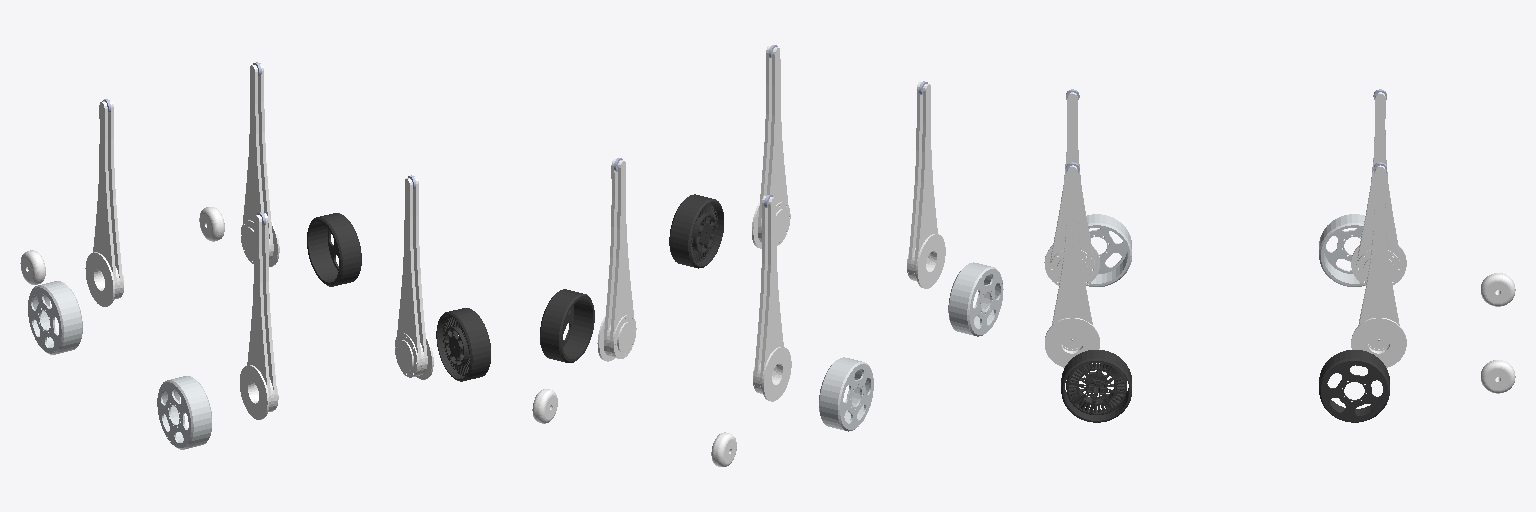
The robot description file, URDF, robot "stee_new":
<?xml version="1.0" encoding="utf-8"?>
<!-- This URDF was automatically created by SolidWorks to URDF Exporter! Originally created by Stephen Brawner (brawner@gmail.com) 
     Commit Version: 1.6.0-4-g7f85cfe  Build Version: 1.6.7995.38578
     For more information, please see http://wiki.ros.org/sw_urdf_exporter -->
<robot
  name="stee_new">
  <link
    name="base_link">
    <inertial>
      <origin
        xyz="-0.0049353145677922 -0.0173908043079384 0.042668507758924"
        rpy="0 0 0" />
      <mass
        value="15.11525644204073" />
      <inertia
        ixx="0.0662797601616749"
        ixy="8.82781584157839E-05"
        ixz="-3.8514440935953E-07"
        iyy="0.0467572894033259"
        iyz="-4.73012423153271E-06"
        izz="0.103690871513037" />
    </inertial>
    <visual>
      <origin
        xyz="0 0 0"
        rpy="0 0 0" />
      <geometry>
        <mesh
          filename="package://stee_new/meshes/base_link.STL" />
      </geometry>
      <material
        name="">
        <color
          rgba="0.752941176470588 0.752941176470588 0.752941176470588 1" />
      </material>
    </visual>
    <collision>
      <origin
        xyz="0 0 0"
        rpy="0 0 0" />
      <geometry>
        <mesh
          filename="package://stee_new/meshes/base_link.STL" />
      </geometry>
    </collision>
  </link>
  <link
    name="L_F_wheel_Link">
    <inertial>
      <origin
        xyz="-0.0031094 -1.9429E-16 -4.5103E-17"
        rpy="0 0 0" />
      <mass
        value="0.14684" />
      <inertia
        ixx="0.00029453"
        ixy="-9.7583E-20"
        ixz="1.0674E-19"
        iyy="0.00016408"
        iyz="2.1925E-20"
        izz="0.00016408" />
    </inertial>
    <visual>
      <origin
        xyz="0 0 0"
        rpy="0 0 0" />
      <geometry>
        <mesh
          filename="package://stee_new/meshes/L_F_wheel_Link.STL" />
      </geometry>
      <material
        name="">
        <color
          rgba="0.89804 0.91765 0.92941 1" />
      </material>
    </visual>
    <collision>
      <origin
        xyz="0 0 0"
        rpy="0 0 0" />
      <geometry>
        <mesh
          filename="package://stee_new/meshes/L_F_wheel_Link.STL" />
      </geometry>
    </collision>
  </link>
  <joint
    name="base2L_F_W_Link"
    type="continuous">
    <origin
      xyz="-0.23 0.185 0.0295"
      rpy="0 0 0" />
    <parent
      link="base_link" />
    <child
      link="L_F_wheel_Link" />
    <axis
      xyz="1 0 0" />
  </joint>
  <link
    name="L_B_wheel_Link">
    <inertial>
      <origin
        xyz="-0.0031094 -2.498E-16 -5.2042E-17"
        rpy="0 0 0" />
      <mass
        value="0.14684" />
      <inertia
        ixx="0.00029453"
        ixy="-6.4277E-20"
        ixz="1.3221E-19"
        iyy="0.00016408"
        iyz="6.0191E-21"
        izz="0.00016408" />
    </inertial>
    <visual>
      <origin
        xyz="0 0 0"
        rpy="0 0 0" />
      <geometry>
        <mesh
          filename="package://stee_new/meshes/L_B_wheel_Link.STL" />
      </geometry>
      <material
        name="">
        <color
          rgba="0.89804 0.91765 0.92941 1" />
      </material>
    </visual>
    <collision>
      <origin
        xyz="0 0 0"
        rpy="0 0 0" />
      <geometry>
        <mesh
          filename="package://stee_new/meshes/L_B_wheel_Link.STL" />
      </geometry>
    </collision>
  </link>
  <joint
    name="base2L_B_W_Link"
    type="continuous">
    <origin
      xyz="-0.23 -0.185 0.0295"
      rpy="0 0 0" />
    <parent
      link="base_link" />
    <child
      link="L_B_wheel_Link" />
    <axis
      xyz="1 0 0" />
  </joint>
  <link
    name="R_F_wheel_Link">
    <inertial>
      <origin
        xyz="0.0031094 1.6653E-16 -5.2042E-17"
        rpy="0 0 0" />
      <mass
        value="0.14684" />
      <inertia
        ixx="0.00029453"
        ixy="-6.0097E-20"
        ixz="-1.338E-19"
        iyy="0.00016408"
        iyz="-2.4027E-20"
        izz="0.00016408" />
    </inertial>
    <visual>
      <origin
        xyz="0 0 0"
        rpy="0 0 0" />
      <geometry>
        <mesh
          filename="package://stee_new/meshes/R_F_wheel_Link.STL" />
      </geometry>
      <material
        name="">
        <color
          rgba="0.29804 0.29804 0.29804 1" />
      </material>
    </visual>
    <collision>
      <origin
        xyz="0 0 0"
        rpy="0 0 0" />
      <geometry>
        <mesh
          filename="package://stee_new/meshes/R_F_wheel_Link.STL" />
      </geometry>
    </collision>
  </link>
  <joint
    name="base2R_F_W_Link"
    type="continuous">
    <origin
      xyz="0.23 0.185 0.0295"
      rpy="0 0 0" />
    <parent
      link="base_link" />
    <child
      link="R_F_wheel_Link" />
    <axis
      xyz="1 0 0" />
  </joint>
  <link
    name="R_B_wheel_Link">
    <inertial>
      <origin
        xyz="-0.001729 1.4003E-10 4.1476E-10"
        rpy="0 0 0" />
      <mass
        value="0.093341" />
      <inertia
        ixx="0.00013694"
        ixy="-1.3659E-13"
        ixz="-1.6812E-13"
        iyy="7.4816E-05"
        iyz="3.5347E-10"
        izz="7.4817E-05" />
    </inertial>
    <visual>
      <origin
        xyz="0 0 0"
        rpy="0 0 0" />
      <geometry>
        <mesh
          filename="package://stee_new/meshes/R_B_wheel_Link.STL" />
      </geometry>
      <material
        name="">
        <color
          rgba="0.29804 0.29804 0.29804 1" />
      </material>
    </visual>
    <collision>
      <origin
        xyz="0 0 0"
        rpy="0 0 0" />
      <geometry>
        <mesh
          filename="package://stee_new/meshes/R_B_wheel_Link.STL" />
      </geometry>
    </collision>
  </link>
  <joint
    name="base2R_B_W_Link"
    type="continuous">
    <origin
      xyz="0.23 -0.185 0.0295"
      rpy="0 0 0" />
    <parent
      link="base_link" />
    <child
      link="R_B_wheel_Link" />
    <axis
      xyz="1 0 0" />
  </joint>
  <link
    name="L_F_ST_Link">
    <inertial>
      <origin
        xyz="-0.001288 0.00044576 0.055763"
        rpy="0 0 0" />
      <mass
        value="0.28023" />
      <inertia
        ixx="0.0011051"
        ixy="4.9518E-20"
        ixz="1.6272E-18"
        iyy="0.00104"
        iyz="-7.7843E-06"
        izz="6.631E-05" />
    </inertial>
    <visual>
      <origin
        xyz="0 0 0"
        rpy="0 0 0" />
      <geometry>
        <mesh
          filename="package://stee_new/meshes/L_F_ST_Link.STL" />
      </geometry>
      <material
        name="">
        <color
          rgba="1 1 1 1" />
      </material>
    </visual>
    <collision>
      <origin
        xyz="0 0 0"
        rpy="0 0 0" />
      <geometry>
        <mesh
          filename="package://stee_new/meshes/L_F_ST_Link.STL" />
      </geometry>
    </collision>
  </link>
  <joint
    name="base2L_F_S_Link"
    type="continuous">
    <origin
      xyz="-0.124 0.22 0.0535"
      rpy="0 0 0" />
    <parent
      link="base_link" />
    <child
      link="L_F_ST_Link" />
    <axis
      xyz="-1 0 0" />
  </joint>
  <link
    name="L_F_S_wheel_Link">
    <inertial>
      <origin
        xyz="0 2.7756E-17 5.5511E-17"
        rpy="0 0 0" />
    <mass value="0.1" />  
    <inertia
      ixx="0.0001"
      ixy="0"
      ixz="0"
      iyy="0.0001"
      iyz="0"
      izz="0.0001" />
  </inertial>
    <visual>
      <origin
        xyz="0 0 0"
        rpy="0 0 0" />
      <geometry>
        <mesh
          filename="package://stee_new/meshes/L_F_S_wheel_Link.STL" />
      </geometry>
      <material
        name="">
        <color
          rgba="0.79216 0.81961 0.93333 1" />
      </material>
    </visual>
    <collision>
      <origin
        xyz="0 0 0"
        rpy="0 0 0" />
      <geometry>
        <mesh
          filename="package://stee_new/meshes/L_F_S_wheel_Link.STL" />
      </geometry>
    </collision>
  </link>
  <joint
    name="base3L_F_sW_Link"
    type="continuous">
    <origin
      xyz="0 0.0021583 0.26999"
      rpy="0 0 0" />
    <parent
      link="L_F_ST_Link" />
    <child
      link="L_F_S_wheel_Link" />
    <axis
      xyz="-1 0 0" />
  </joint>
  <link
    name="L_B_ST_Link">
    <inertial>
      <origin
        xyz="-0.001288 8.3101E-05 0.055764"
        rpy="0 0 0" />
      <mass
        value="0.28023" />
      <inertia
        ixx="0.0011051"
        ixy="-1.3052E-20"
        ixz="1.6788E-18"
        iyy="0.0010401"
        iyz="-1.4512E-06"
        izz="6.625E-05" />
    </inertial>
    <visual>
      <origin
        xyz="0 0 0"
        rpy="0 0 0" />
      <geometry>
        <mesh
          filename="package://stee_new/meshes/L_B_ST_Link.STL" />
      </geometry>
      <material
        name="">
        <color
          rgba="1 1 1 1" />
      </material>
    </visual>
    <collision>
      <origin
        xyz="0 0 0"
        rpy="0 0 0" />
      <geometry>
        <mesh
          filename="package://stee_new/meshes/L_B_ST_Link.STL" />
      </geometry>
    </collision>
  </link>
  <joint
    name="base2L_B_S_Link"
    type="continuous">
    <origin
      xyz="-0.124 -0.22 0.0535"
      rpy="0 0 0" />
    <parent
      link="base_link" />
    <child
      link="L_B_ST_Link" />
    <axis
      xyz="-1 0 0" />
  </joint>
  <link
    name="L_B_S_wheel_Link">
    <inertial>
      <origin
        xyz="-1.3878E-17 -2.7756E-17 5.5511E-17"
        rpy="0 0 0" />
    <mass value="0.1" />  
    <inertia
      ixx="0.0001"
      ixy="0"
      ixz="0"
      iyy="0.0001"
      iyz="0"
      izz="0.0001" />
  </inertial>
    <visual>
      <origin
        xyz="0 0 0"
        rpy="0 0 0" />
      <geometry>
        <mesh
          filename="package://stee_new/meshes/L_B_S_wheel_Link.STL" />
      </geometry>
      <material
        name="">
        <color
          rgba="0.79216 0.81961 0.93333 1" />
      </material>
    </visual>
    <collision>
      <origin
        xyz="0 0 0"
        rpy="0 0 0" />
      <geometry>
        <mesh
          filename="package://stee_new/meshes/L_B_S_wheel_Link.STL" />
      </geometry>
    </collision>
  </link>
  <joint
    name="base3L_B_sW_Link"
    type="continuous">
    <origin
      xyz="0 0.00040236 0.27"
      rpy="0 0 0" />
    <parent
      link="L_B_ST_Link" />
    <child
      link="L_B_S_wheel_Link" />
    <axis
      xyz="-1 0 0" />
  </joint>
  <link
    name="R_F_ST_Link">
    <inertial>
      <origin
        xyz="0.001288 0.00044576 0.055763"
        rpy="0 0 0" />
      <mass
        value="0.28023" />
      <inertia
        ixx="0.0011051"
        ixy="-4.2243E-22"
        ixz="-2.9525E-20"
        iyy="0.00104"
        iyz="-7.7843E-06"
        izz="6.631E-05" />
    </inertial>
    <visual>
      <origin
        xyz="0 0 0"
        rpy="0 0 0" />
      <geometry>
        <mesh
          filename="package://stee_new/meshes/R_F_ST_Link.STL" />
      </geometry>
      <material
        name="">
        <color
          rgba="1 1 1 1" />
      </material>
    </visual>
    <collision>
      <origin
        xyz="0 0 0"
        rpy="0 0 0" />
      <geometry>
        <mesh
          filename="package://stee_new/meshes/R_F_ST_Link.STL" />
      </geometry>
    </collision>
  </link>
  <joint
    name="base2R_F_S_Link"
    type="continuous">
    <origin
      xyz="0.124 0.22 0.0535"
      rpy="0 0 0" />
    <parent
      link="base_link" />
    <child
      link="R_F_ST_Link" />
    <axis
      xyz="-1 0 0" />
  </joint>
  <link
    name="R_F_S_wheel_Link">
    <inertial>
      <origin
        xyz="0 2.7756E-17 5.5511E-17"
        rpy="0 0 0" />
    <mass value="0.1" />  
    <inertia
      ixx="0.0001"
      ixy="0"
      ixz="0"
      iyy="0.0001"
      iyz="0"
      izz="0.0001" />
  </inertial>
    <visual>
      <origin
        xyz="0 0 0"
        rpy="0 0 0" />
      <geometry>
        <mesh
          filename="package://stee_new/meshes/R_F_S_wheel_Link.STL" />
      </geometry>
      <material
        name="">
        <color
          rgba="0.79216 0.81961 0.93333 1" />
      </material>
    </visual>
    <collision>
      <origin
        xyz="0 0 0"
        rpy="0 0 0" />
      <geometry>
        <mesh
          filename="package://stee_new/meshes/R_F_S_wheel_Link.STL" />
      </geometry>
    </collision>
  </link>
  <joint
    name="base3R_F_sW_Link"
    type="continuous">
    <origin
      xyz="0 0.0021583 0.26999"
      rpy="0 0 0" />
    <parent
      link="R_F_ST_Link" />
    <child
      link="R_F_S_wheel_Link" />
    <axis
      xyz="1 0 0" />
  </joint>
  <link
    name="R_B_ST_Link">
    <inertial>
      <origin
        xyz="0.001288 8.3101E-05 0.055764"
        rpy="0 0 0" />
      <mass
        value="0.28023" />
      <inertia
        ixx="0.0011051"
        ixy="-7.1068E-20"
        ixz="3.5053E-20"
        iyy="0.0010401"
        iyz="-1.4512E-06"
        izz="6.625E-05" />
    </inertial>
    <visual>
      <origin
        xyz="0 0 0"
        rpy="0 0 0" />
      <geometry>
        <mesh
          filename="package://stee_new/meshes/R_B_ST_Link.STL" />
      </geometry>
      <material
        name="">
        <color
          rgba="1 1 1 1" />
      </material>
    </visual>
    <collision>
      <origin
        xyz="0 0 0"
        rpy="0 0 0" />
      <geometry>
        <mesh
          filename="package://stee_new/meshes/R_B_ST_Link.STL" />
      </geometry>
    </collision>
  </link>
  <joint
    name="base2R_B_S_Link"
    type="continuous">
    <origin
      xyz="0.124 -0.22 0.0535"
      rpy="0 0 0" />
    <parent
      link="base_link" />
    <child
      link="R_B_ST_Link" />
    <axis
      xyz="-1 0 0" />
  </joint>
  <link
    name="R_B_S_wheel_Link">
    <inertial>
      <origin
        xyz="0 2.7756E-17 0"
        rpy="0 0 0" />
    <mass value="0.1" />  
    <inertia
      ixx="0.0001"
      ixy="0"
      ixz="0"
      iyy="0.0001"
      iyz="0"
      izz="0.0001" />
  </inertial>
    <visual>
      <origin
        xyz="0 0 0"
        rpy="0 0 0" />
      <geometry>
        <mesh
          filename="package://stee_new/meshes/R_B_S_wheel_Link.STL" />
      </geometry>
      <material
        name="">
        <color
          rgba="0.79216 0.81961 0.93333 1" />
      </material>
    </visual>
    <collision>
      <origin
        xyz="0 0 0"
        rpy="0 0 0" />
      <geometry>
        <mesh
          filename="package://stee_new/meshes/R_B_S_wheel_Link.STL" />
      </geometry>
    </collision>
  </link>
  <joint
    name="base3R_B_sW_Link"
    type="continuous">
    <origin
      xyz="0 0.00040236 0.27"
      rpy="0 0 0" />
    <parent
      link="R_B_ST_Link" />
    <child
      link="R_B_S_wheel_Link" />
    <axis
      xyz="1 0 0" />
  </joint>
  <link
    name="most_L_F_wheel_Link">
    <inertial>
      <origin
        xyz="0 -5.5511E-17 8.6736E-19"
        rpy="0 0 0" />
      <mass
        value="0.084193" />
      <inertia
        ixx="2.4769E-05"
        ixy="1.6116E-21"
        ixz="2.078E-22"
        iyy="1.4841E-05"
        iyz="-1.9627E-22"
        izz="1.4841E-05" />
    </inertial>
    <visual>
      <origin
        xyz="0 0 0"
        rpy="0 0 0" />
      <geometry>
        <mesh
          filename="package://stee_new/meshes/most_L_F_wheel_Link.STL" />
      </geometry>
      <material
        name="">
        <color
          rgba="1 1 1 0.4" />
      </material>
    </visual>
    <collision>
      <origin
        xyz="0 0 0"
        rpy="0 0 0" />
      <geometry>
        <mesh
          filename="package://stee_new/meshes/most_L_F_wheel_Link.STL" />
      </geometry>
    </collision>
  </link>
  <joint
    name="most_L_F_wheel"
    type="continuous">
    <origin
      xyz="-0.1475 0.391 0.006"
      rpy="0 0 0" />
    <parent
      link="base_link" />
    <child
      link="most_L_F_wheel_Link" />
    <axis
      xyz="1 0 0" />
  </joint>
  <link
    name="most_R_F_wheel_Link">
    <inertial>
      <origin
        xyz="0 -5.5511E-17 8.6736E-19"
        rpy="0 0 0" />
      <mass
        value="0.084193" />
      <inertia
        ixx="2.4769E-05"
        ixy="-1.4252E-21"
        ixz="1.2664E-22"
        iyy="1.4841E-05"
        iyz="-4.4778E-23"
        izz="1.4841E-05" />
    </inertial>
    <visual>
      <origin
        xyz="0 0 0"
        rpy="0 0 0" />
      <geometry>
        <mesh
          filename="package://stee_new/meshes/most_R_F_wheel_Link.STL" />
      </geometry>
      <material
        name="">
        <color
          rgba="1 1 1 0.4" />
      </material>
    </visual>
    <collision>
      <origin
        xyz="0 0 0"
        rpy="0 0 0" />
      <geometry>
        <mesh
          filename="package://stee_new/meshes/most_R_F_wheel_Link.STL" />
      </geometry>
    </collision>
  </link>
  <joint
    name="most_R_F_wheel"
    type="continuous">
    <origin
      xyz="0.1475 0.391 0.006"
      rpy="0 0 0" />
    <parent
      link="base_link" />
    <child
      link="most_R_F_wheel_Link" />
    <axis
      xyz="1 0 0" />
  </joint>
</robot>

--- Render facts (derived) ---
3 views of the same robot in one strip: view 1: azimuth 30°, elevation 25°; view 2: azimuth 150°, elevation 25°; view 3: azimuth 270°, elevation 25° (orthographic).
Robot: stee_new — 15 links, 14 joints (14 continuous); root link base_link; default pose: every joint at zero.
Visible links, largest first — view 1: L_B_ST_Link, L_F_ST_Link, R_B_ST_Link, R_F_ST_Link, R_B_wheel_Link, R_F_wheel_Link, L_B_wheel_Link, L_F_wheel_Link, most_R_F_wheel_Link, most_L_F_wheel_Link; view 2: L_B_ST_Link, L_F_ST_Link, R_F_ST_Link, R_B_ST_Link, R_B_wheel_Link, L_B_wheel_Link, R_F_wheel_Link, L_F_wheel_Link, most_L_F_wheel_Link, most_R_F_wheel_Link; view 3: R_F_ST_Link, R_B_ST_Link, R_B_wheel_Link, R_F_wheel_Link, L_F_ST_Link, L_B_ST_Link, L_B_wheel_Link, L_F_wheel_Link, most_L_F_wheel_Link, most_R_F_wheel_Link.
Boxes of the visible links, x1=… form: L_B_ST_Link: x1=240, y1=213, x2=278, y2=419; L_F_ST_Link: x1=85, y1=100, x2=123, y2=306; R_B_ST_Link: x1=395, y1=176, x2=433, y2=379; R_F_ST_Link: x1=241, y1=63, x2=279, y2=266; R_B_wheel_Link: x1=436, y1=308, x2=490, y2=381; R_F_wheel_Link: x1=307, y1=213, x2=361, y2=286; L_B_wheel_Link: x1=157, y1=376, x2=211, y2=449; L_F_wheel_Link: x1=28, y1=281, x2=82, y2=354; most_R_F_wheel_Link: x1=199, y1=207, x2=224, y2=241; most_L_F_wheel_Link: x1=20, y1=250, x2=45, y2=284; L_B_ST_Link: x1=907, y1=82, x2=945, y2=288; L_F_ST_Link: x1=753, y1=196, x2=791, y2=401; R_F_ST_Link: x1=597, y1=159, x2=636, y2=361; R_B_ST_Link: x1=752, y1=46, x2=790, y2=248; R_B_wheel_Link: x1=669, y1=194, x2=723, y2=268; L_B_wheel_Link: x1=948, y1=262, x2=1003, y2=336; R_F_wheel_Link: x1=540, y1=289, x2=594, y2=362; L_F_wheel_Link: x1=819, y1=357, x2=873, y2=431; most_L_F_wheel_Link: x1=711, y1=432, x2=736, y2=466; most_R_F_wheel_Link: x1=532, y1=389, x2=557, y2=423; R_F_ST_Link: x1=1351, y1=165, x2=1406, y2=367; R_B_ST_Link: x1=1045, y1=165, x2=1099, y2=367; R_B_wheel_Link: x1=1061, y1=350, x2=1131, y2=422; R_F_wheel_Link: x1=1319, y1=350, x2=1389, y2=422; L_F_ST_Link: x1=1351, y1=92, x2=1406, y2=285; L_B_ST_Link: x1=1044, y1=92, x2=1099, y2=285; L_B_wheel_Link: x1=1086, y1=214, x2=1131, y2=286; L_F_wheel_Link: x1=1319, y1=214, x2=1364, y2=286; most_L_F_wheel_Link: x1=1481, y1=273, x2=1515, y2=306; most_R_F_wheel_Link: x1=1481, y1=360, x2=1515, y2=393.
Bounding box of the posed robot: 0.495 × 0.676 × 0.3549 m (x, y, z).
14 mesh visuals loaded from 15 distinct referenced files (14 binary STL); not drawn: 1 (reference not matched to a file when rendering).
